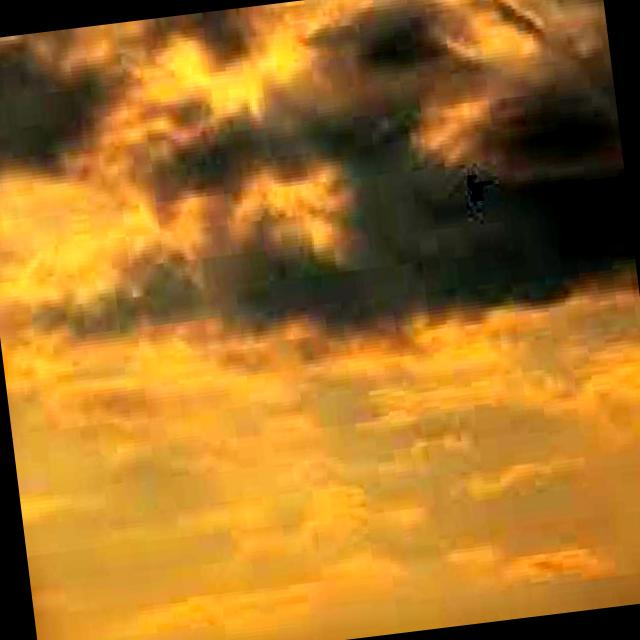bird: (460, 163, 494, 209)
